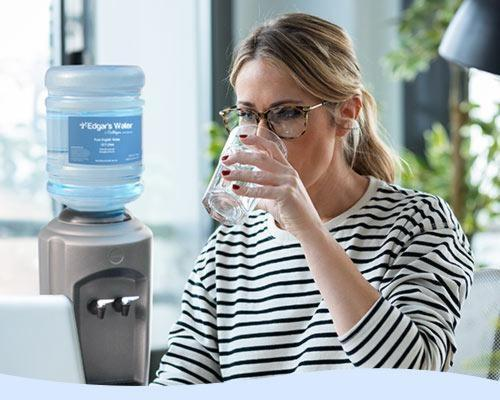Dispenser: (37, 64, 153, 385)
